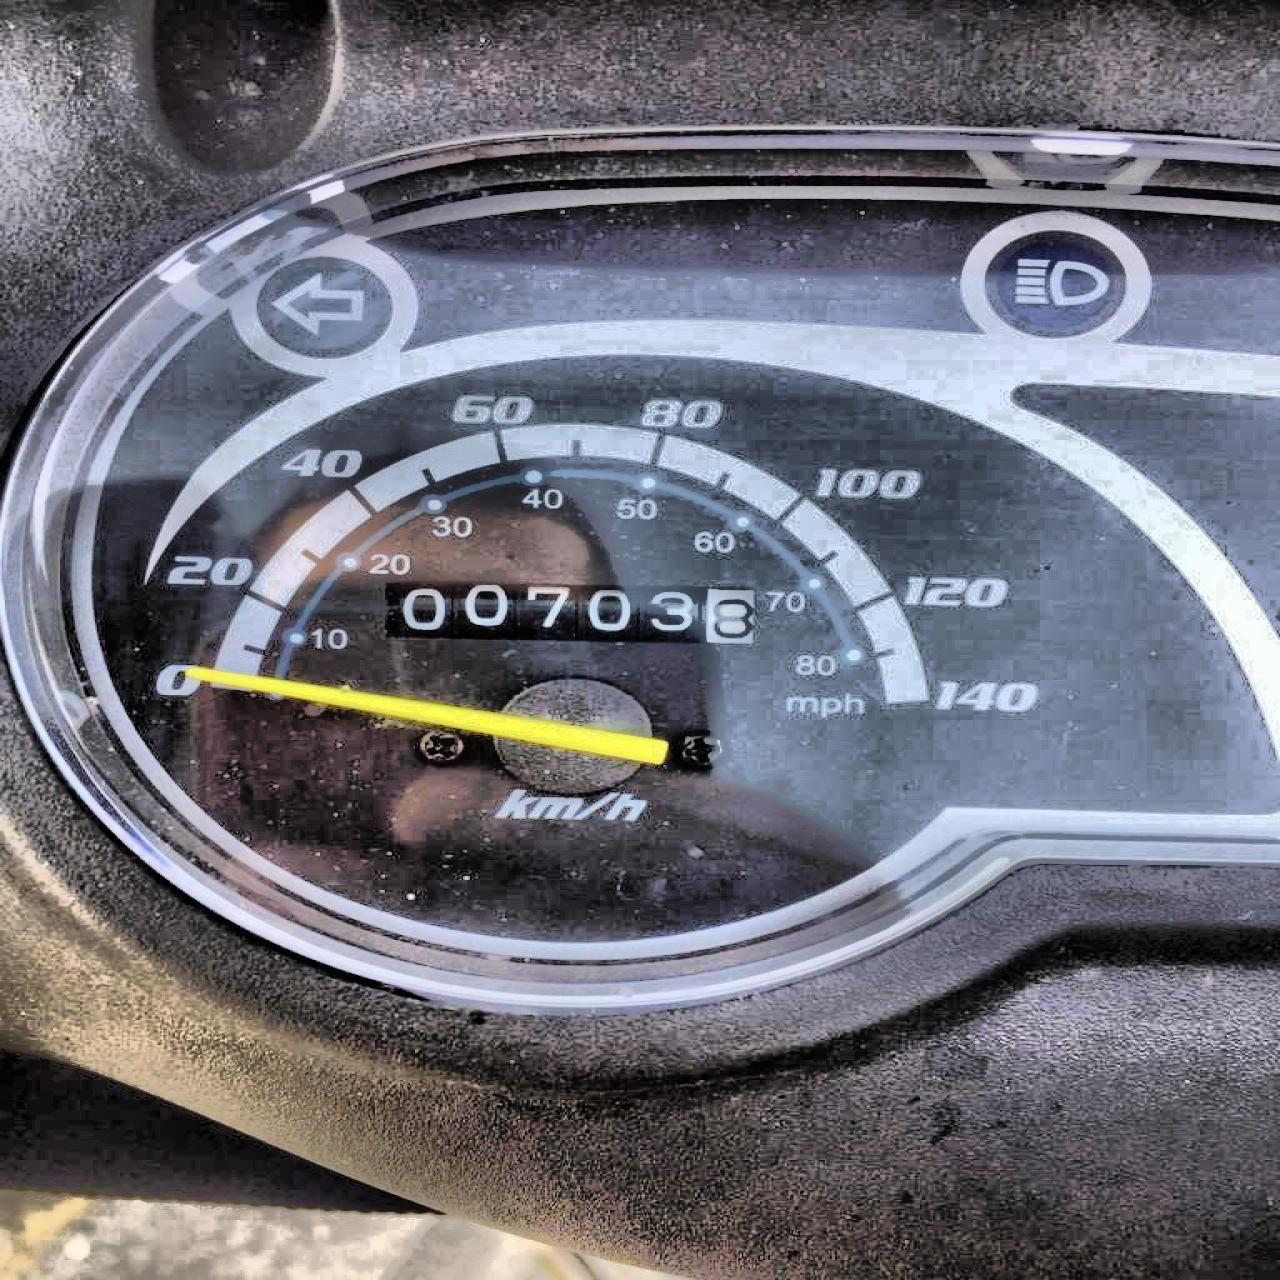0: (584, 585, 634, 634), (395, 584, 447, 630), (460, 580, 510, 626)
3: (645, 588, 697, 632)
7: (522, 582, 570, 628)
8: (705, 595, 757, 640)
odometer: (377, 576, 758, 648)
